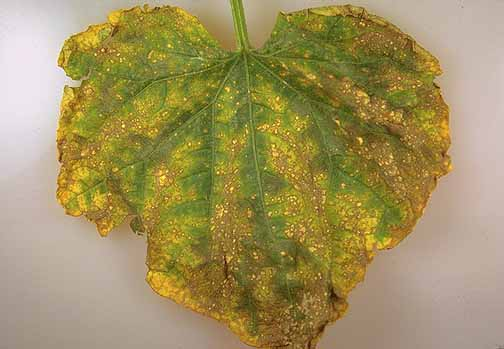unhealthy: (52, 18, 468, 330)
